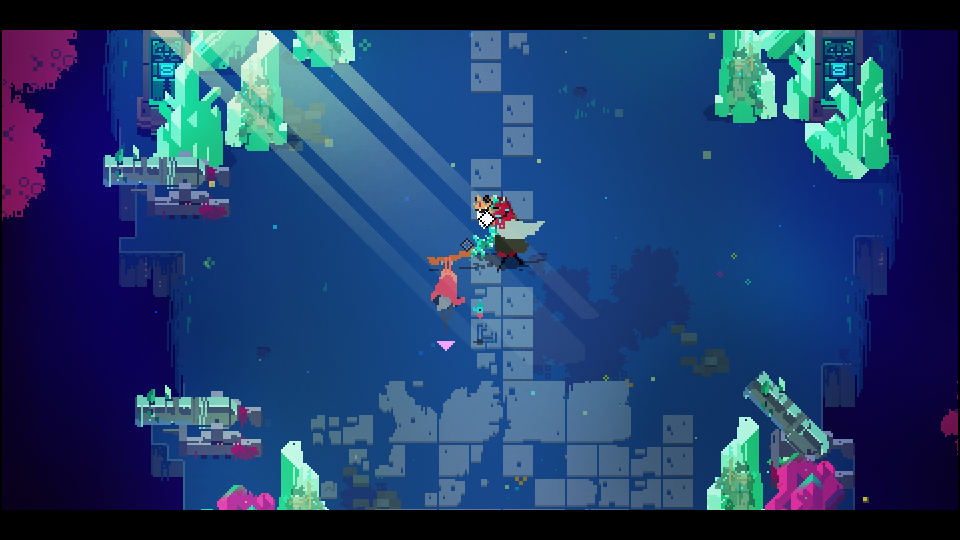hanged_man: (457, 184, 542, 277)
player: (428, 264, 465, 324)
